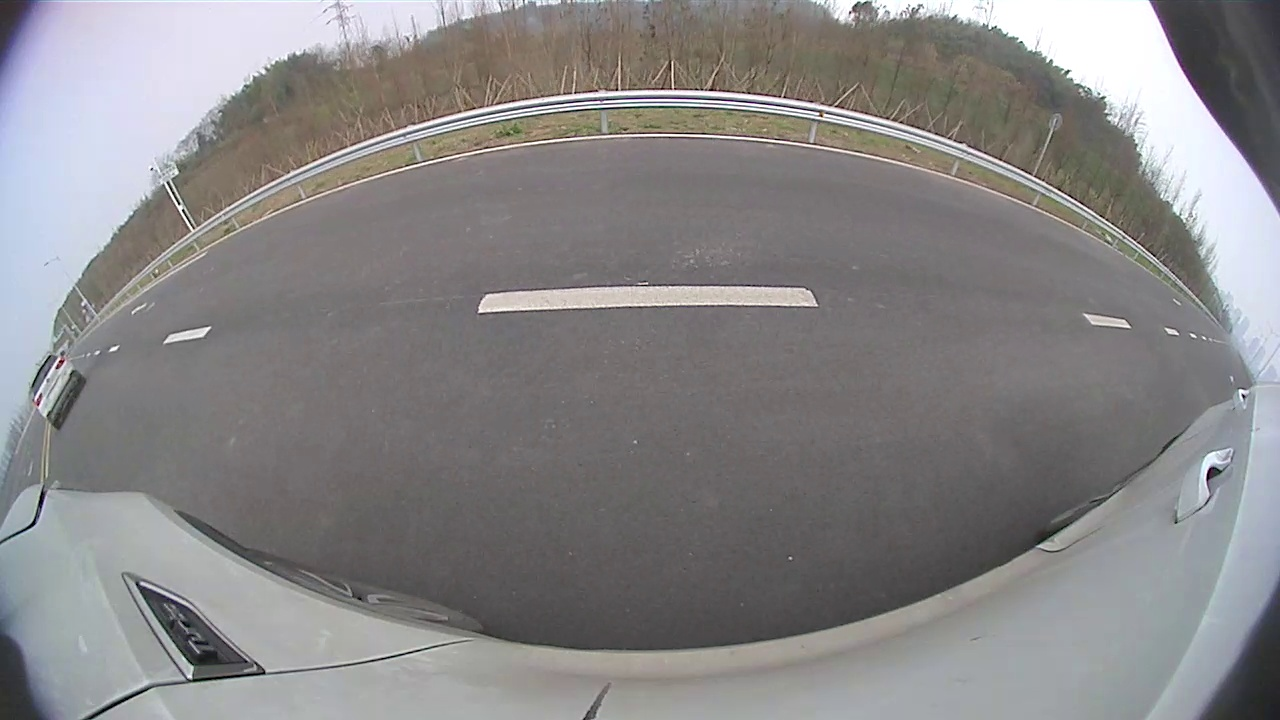car: (28, 352, 88, 431)
